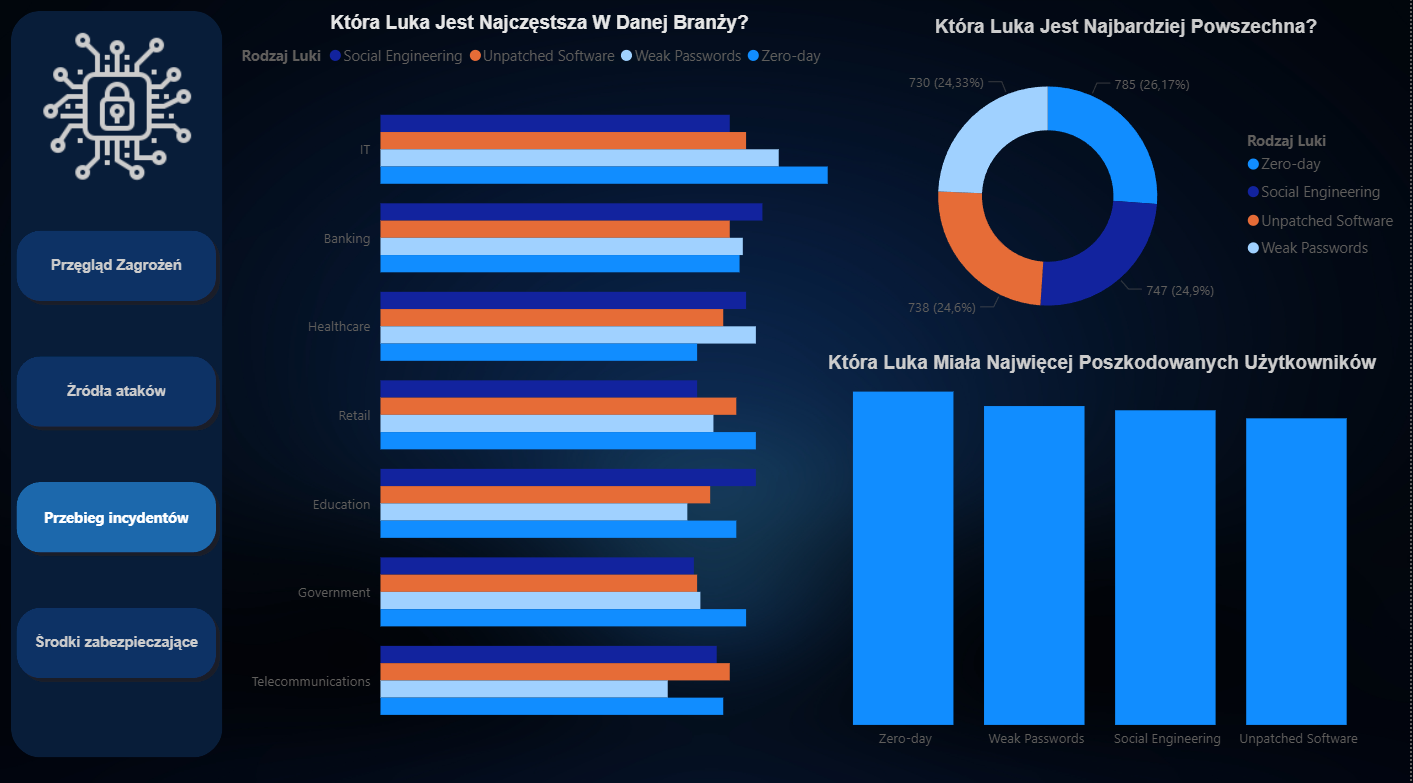

Layout of this report page (visuals, bound fields, positions):
{"tool":"powerbi","page":{"name":"Przebieg incydentów","canvas":[1280,720],"ordinal":2},"visuals":[{"type":"shape","box":[12.1,13.1,191.6,676.8],"z":0},{"type":"clusteredColumnChart","title":"Która Luka Miała Najwięcej Poszkodowanych Użytkowników","fields":{"Category":["Global_Cybersecurity_Threats_2015-2024.Typ luki w zabezpieczeniu"],"Y":["Sum(Global_Cybersecurity_Threats_2015-2024.Liczba poszkodowanych)"]},"box":[722.7,321,556.8,369.1],"z":1000},{"type":"donutChart","title":"Która Luka Jest Najbardziej Powszechna?","fields":{"Category":["Global_Cybersecurity_Threats_2015-2024.Typ luki w zabezpieczeniu"],"Y":["CountNonNull(Global_Cybersecurity_Threats_2015-2024.Zrodlo ataku)"]},"box":[766.2,16.3,513.2,308.3],"z":2000},{"type":"image","box":[23.6,28.5,169,142.4],"z":3000},{"type":"clusteredBarChart","title":"Która Luka Jest Najczęstsza W Danej Branży?","fields":{"Category":["Global_Cybersecurity_Threats_2015-2024.Target"],"Y":["CountNonNull(Global_Cybersecurity_Threats_2015-2024.Typ luki w zabezpieczeniu)"],"Series":["Global_Cybersecurity_Threats_2015-2024.Typ luki w zabezpieczeniu"]},"box":[215.8,12.7,550.4,677.4],"z":4000},{"type":"pageNavigator","box":[11.8,206.8,191.3,418],"z":5000}]}

Visuals, with their boxes in screenshot pixels (x1, y1, x2, y2), scaled from the page's 1280x720 canvas onto the 1413x783 screenshot:
shape: box(13, 14, 225, 750)
"Która Luka Miała Najwięcej Poszkodowanych Użytkowników" clusteredColumnChart: box(798, 349, 1412, 750)
"Która Luka Jest Najbardziej Powszechna?" donutChart: box(846, 18, 1412, 353)
image: box(26, 31, 213, 186)
"Która Luka Jest Najczęstsza W Danej Branży?" clusteredBarChart: box(238, 14, 846, 750)
pageNavigator: box(13, 225, 224, 679)
